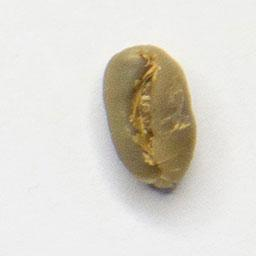peaberry: (98, 39, 201, 193)
